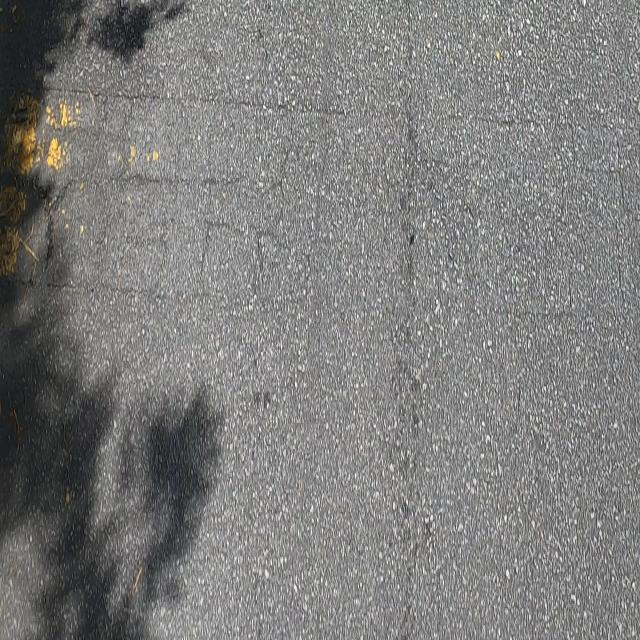Retak-Buaya: (89, 92, 320, 307), (486, 119, 633, 319)
